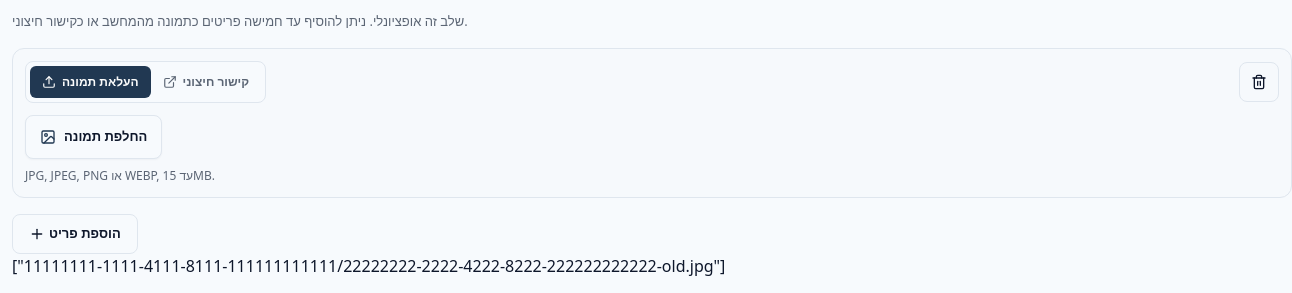
Test: SupplierPortfolioEditor › removes an uploaded image from Storage before removing the item
Click the button named "הסרת פריט" at (1259, 82), box [1239,62,1279,102]
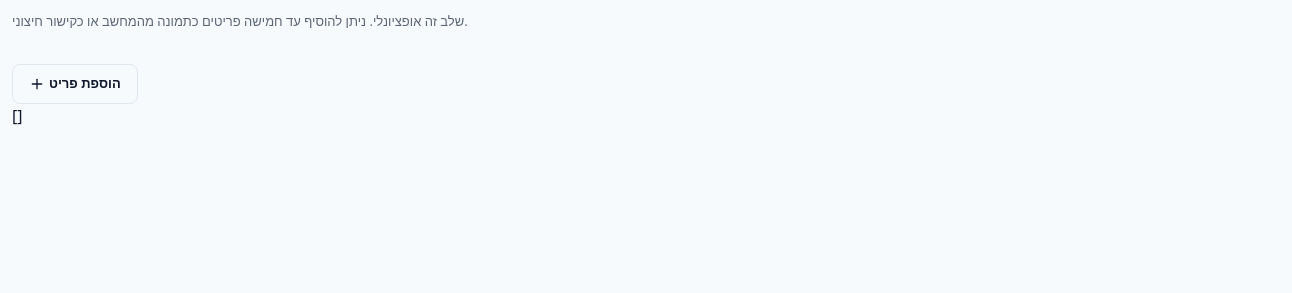
Expected: the text with test id "portfolio-values" reads "[]", [12,104,22,126]
